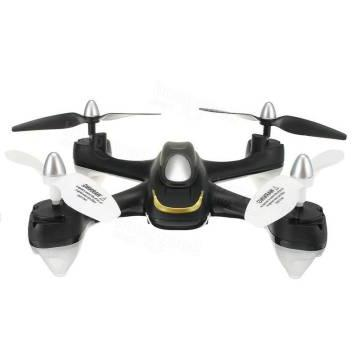drone: (0, 107, 354, 259)
